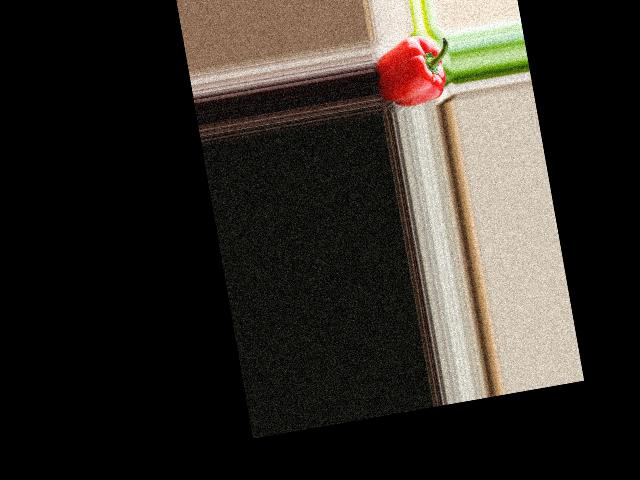bell_pepper: (368, 29, 455, 110)
